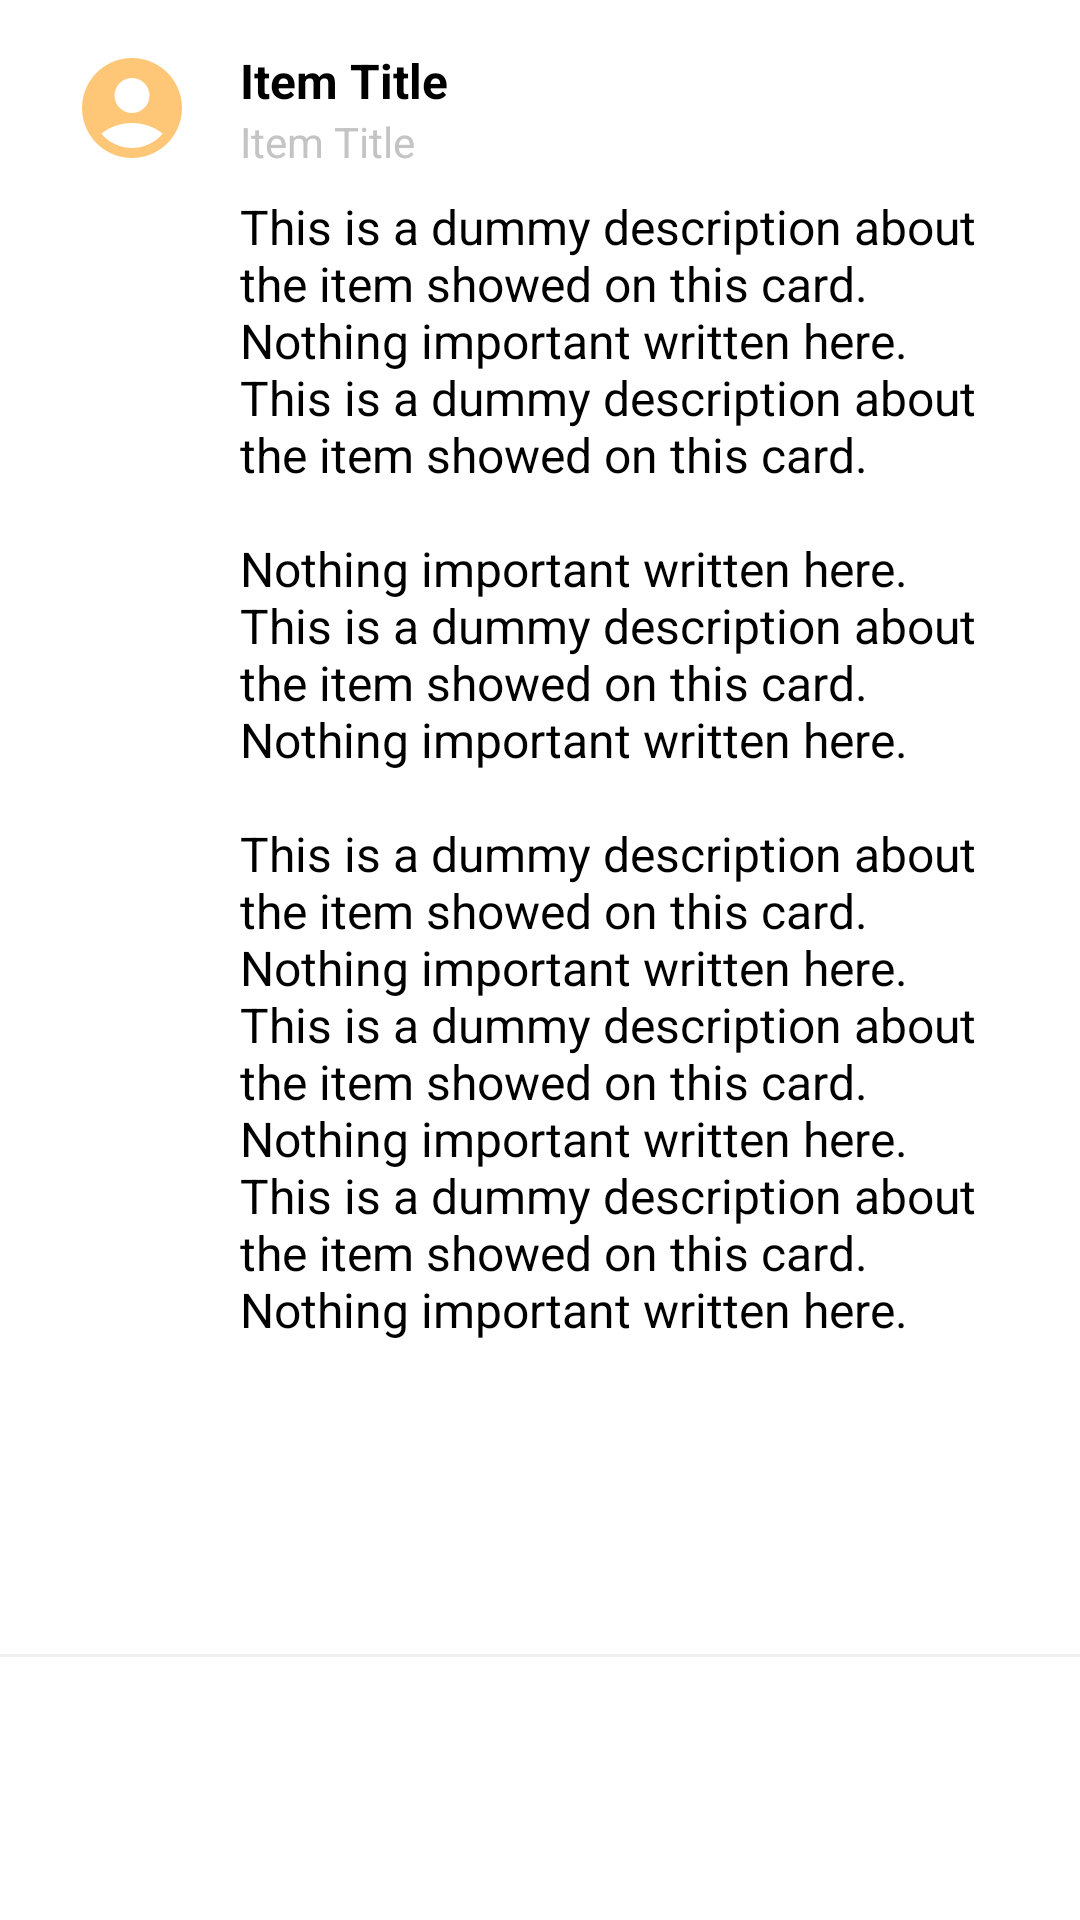

Icon bounding boxes for this 1080×1920 phone screenshot, format (x1, y1, x2, y2):
account circle: (82, 58, 182, 158)
